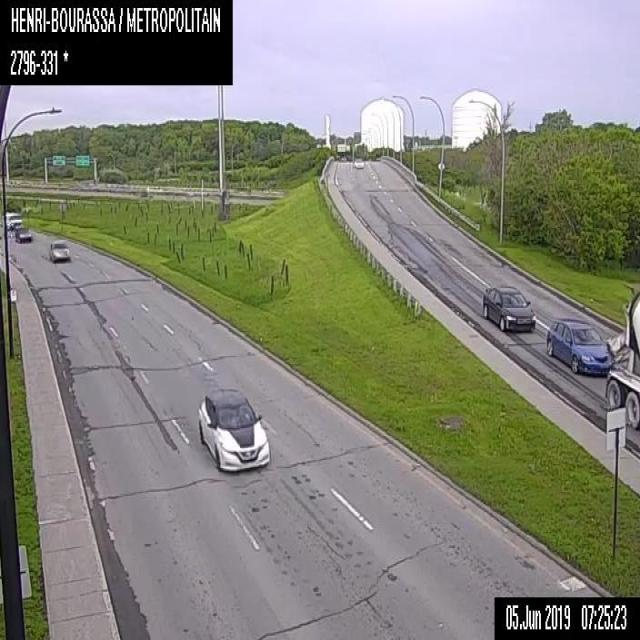vehicle: (193, 384, 269, 476), (607, 288, 639, 432), (547, 317, 611, 374), (479, 280, 536, 332), (47, 238, 72, 262), (5, 210, 21, 228), (15, 226, 31, 243), (352, 156, 364, 168)
